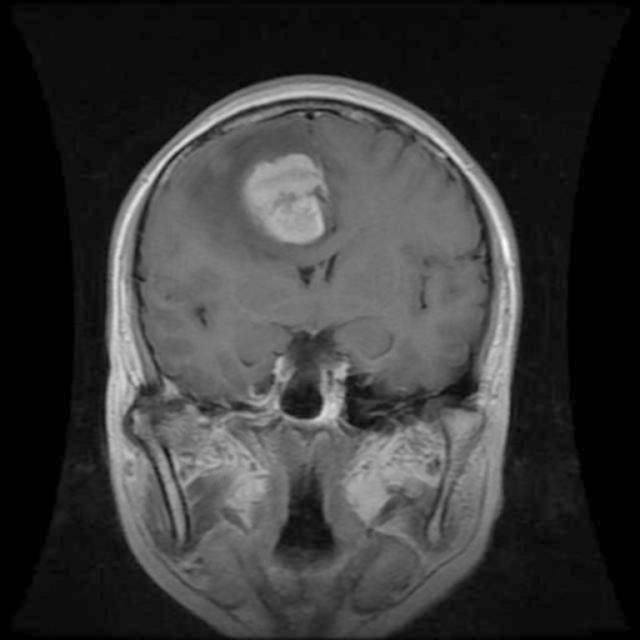meningioma tumor: (236, 144, 346, 248)
